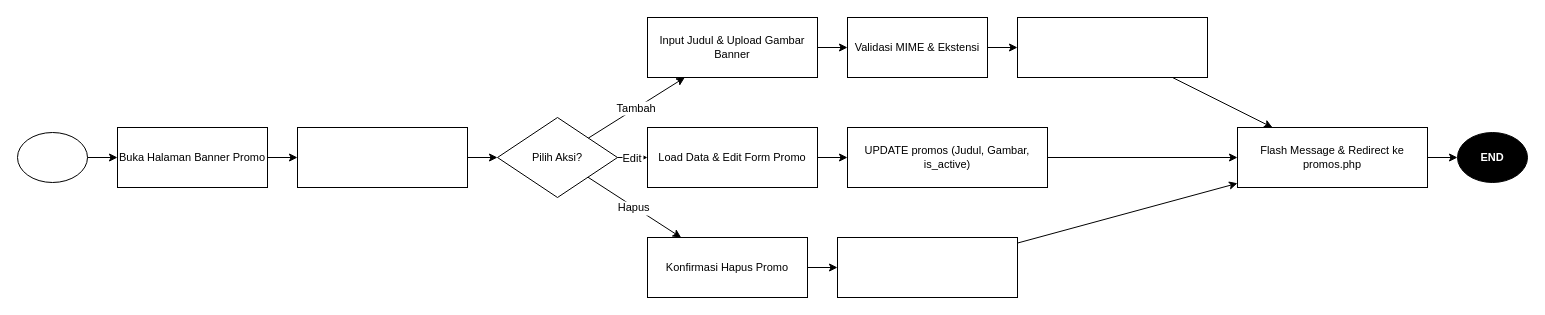
The diagram is 1545 pixels wide and 315 high, and some of its shapes have lost their labels. Each missing label, with the centre of its shape:
"convertToWebp() & INSERT INTO promos" belongs at (1112,47).
"Fetch & Render Semua Promo dari DB" belongs at (382,157).
"Hapus File & DELETE FROM promos" belongs at (927,267).
"START" belongs at (52,157).
